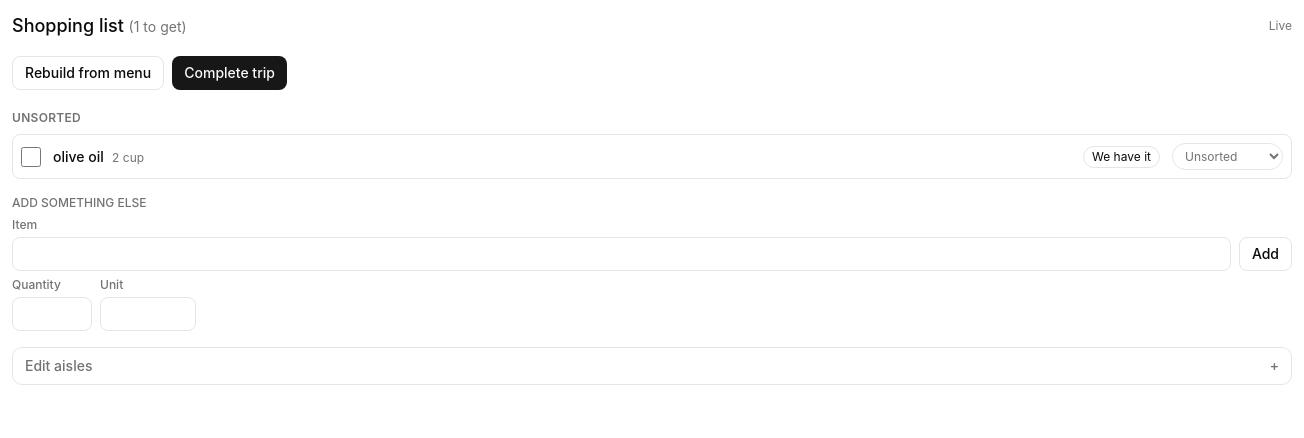
Test: GroceryList — we have it › puts the row back when the write fails
Click the button "We have it" at (1122, 156), box [1083,146,1160,168]
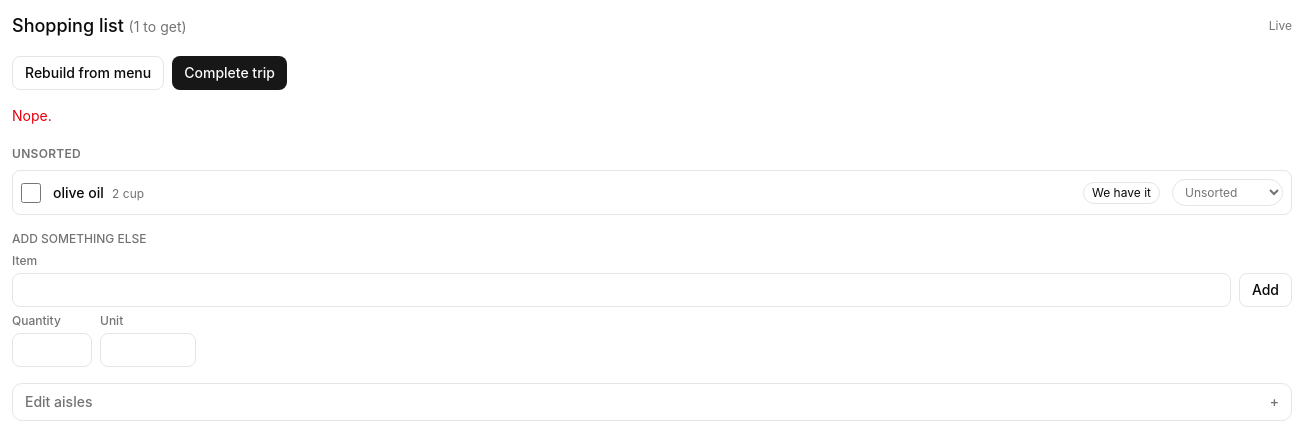
Expected: the text "olive oil" is shown, [53,184,104,200]
Now the message reads "Nope.", box [12,107,52,124]
